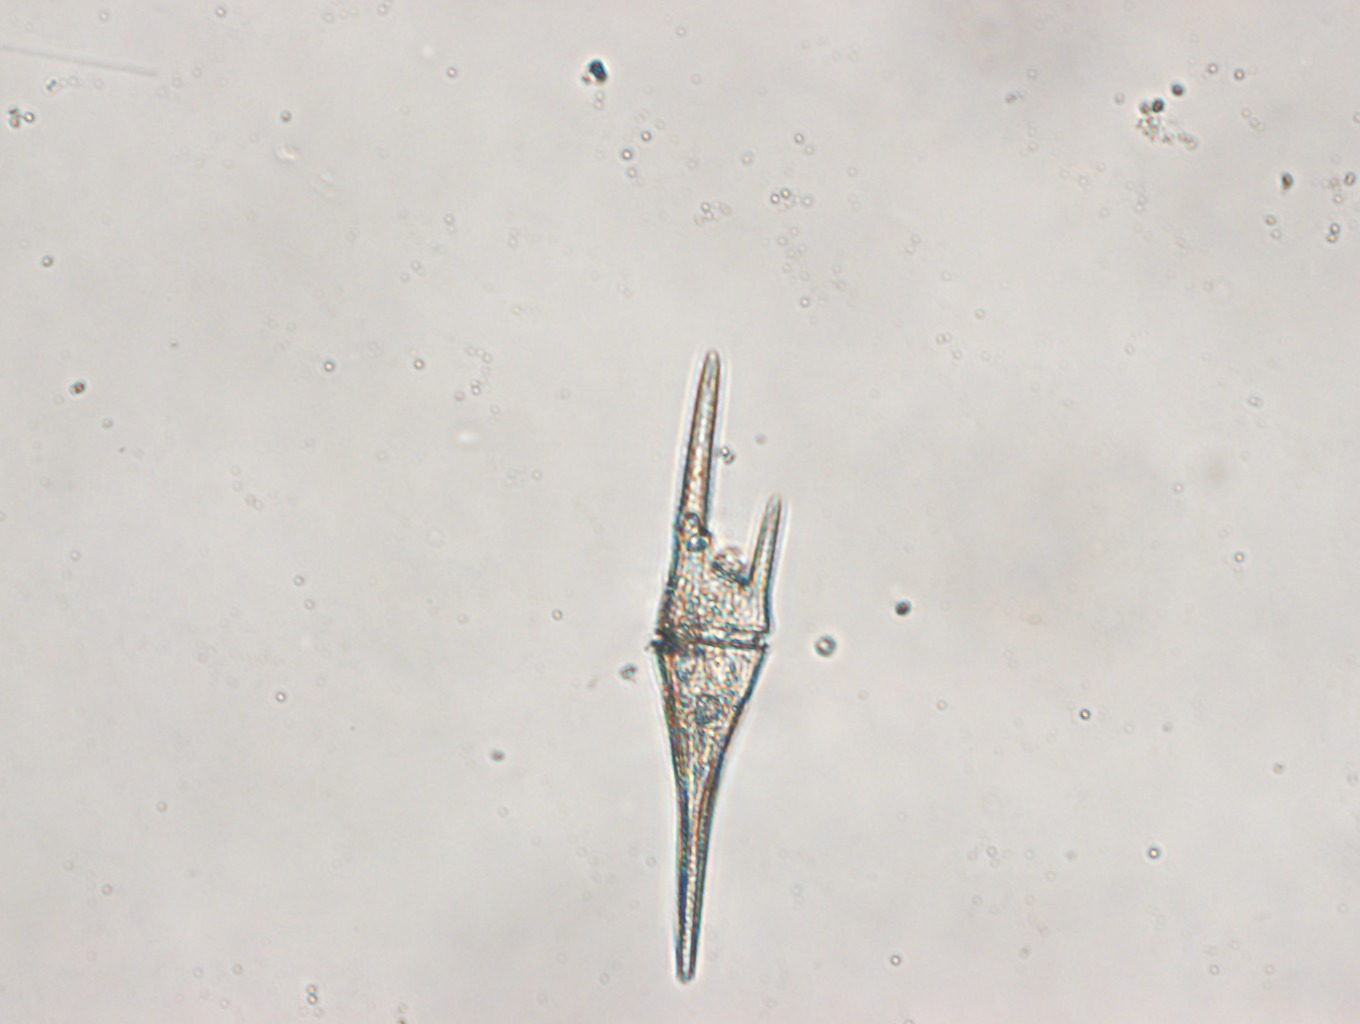ceratium furca: (647, 349, 794, 989)
